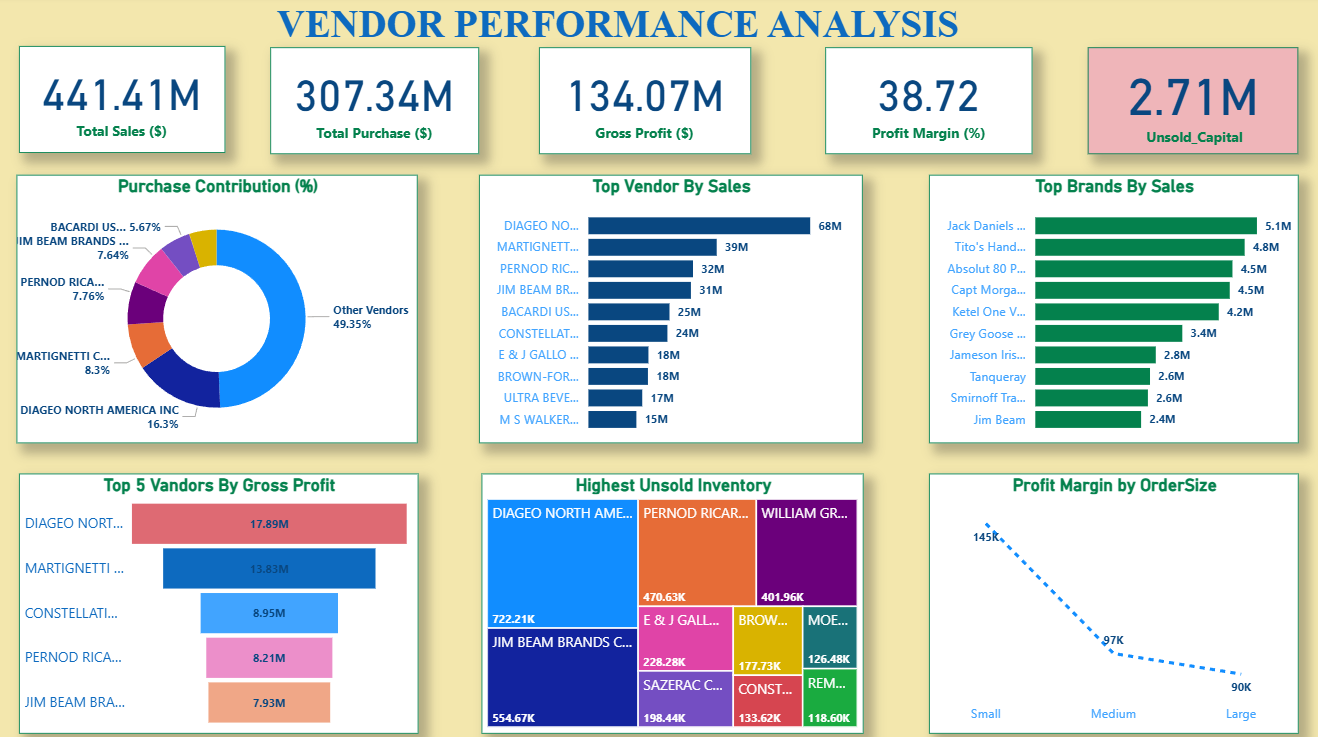

The page's visual inventory and layout, read from the dashboard file:
{"tool":"powerbi","page":{"name":"Page 1","canvas":[1280,720],"ordinal":0},"visuals":[{"type":"textbox","box":[233.3,0,728.6,70],"z":0},{"type":"card","title":"T","fields":{"Values":["Sum(vendor_sales_summary.TotalSalesDollars)"]},"box":[19.2,48,199,102.9],"z":1000},{"type":"card","title":"T","fields":{"Values":["Sum(vendor_sales_summary.TotalPurchaseDollars)"]},"box":[262.1,49.4,201.7,102.9],"z":2000},{"type":"card","title":"T","fields":{"Values":["Sum(vendor_sales_summary.GrossProfit)"]},"box":[521.4,49.4,204.5,102.9],"z":3000},{"type":"card","title":"T","fields":{"Values":["Avg(vendor_sales_summary.ProfitMargin)"]},"box":[797.3,49.4,200.3,102.9],"z":4000},{"type":"card","title":"T","fields":{"Values":["Sum(vendor_sales_summary.Unsold_Capital)"]},"box":[1051.1,49.4,203.1,102.9],"z":5000},{"type":"donutChart","title":"Purchase Contribution (%)","fields":{"Category":["vendor_performance.Vendor Category"],"Y":["Sum(vendor_performance.PurchaseContribution)"]},"box":[16.5,172.9,387,259.3],"z":6000},{"type":"barChart","title":"Top Vendor By Sales","fields":{"Category":["vendor_sales_summary.VendorName"],"Y":["Sum(vendor_sales_summary.TotalSalesDollars)"]},"box":[463.8,172.9,370.5,259.3],"z":7000},{"type":"barChart","title":"Top Brands By Sales","fields":{"Category":["vendor_sales_summary.Description"],"Y":["Sum(vendor_sales_summary.TotalSalesDollars)"]},"box":[897.4,172.9,356.8,259.3],"z":8000},{"type":"funnel","title":"Top 5 Vandors By Gross Profit","fields":{"Category":["vendor_sales_summary.VendorName"],"Y":["Sum(vendor_sales_summary.GrossProfit)"]},"box":[19.2,461.1,385.6,251.1],"z":9000},{"type":"treemap","title":"Highest Unsold Inventory","fields":{"Group":["vendor_sales_summary.VendorName"],"Values":["Sum(vendor_sales_summary.UnsoldInventoryValue)"]},"box":[465.2,461.1,369.1,251.1],"z":9001},{"type":"lineChart","title":"Profit Margin by OrderSize","fields":{"Category":["vendor_sales_summary.OrderSize"],"Y":["Sum(vendor_sales_summary.ProfitMargin)"]},"box":[897,461,357,251],"z":9002}]}

Visuals, with their boxes in screenshot pixels (x1, y1, x2, y2), scaled from the page's 1280x720 canvas onto the 1318x737 screenshot:
textbox: box=[240, 0, 990, 72]
"T" card: box=[20, 49, 225, 154]
"T" card: box=[270, 51, 478, 156]
"T" card: box=[537, 51, 747, 156]
"T" card: box=[821, 51, 1027, 156]
"T" card: box=[1082, 51, 1291, 156]
"Purchase Contribution (%)" donutChart: box=[17, 177, 415, 442]
"Top Vendor By Sales" barChart: box=[478, 177, 859, 442]
"Top Brands By Sales" barChart: box=[924, 177, 1291, 442]
"Top 5 Vandors By Gross Profit" funnel: box=[20, 472, 417, 729]
"Highest Unsold Inventory" treemap: box=[479, 472, 859, 729]
"Profit Margin by OrderSize" lineChart: box=[924, 472, 1291, 729]
